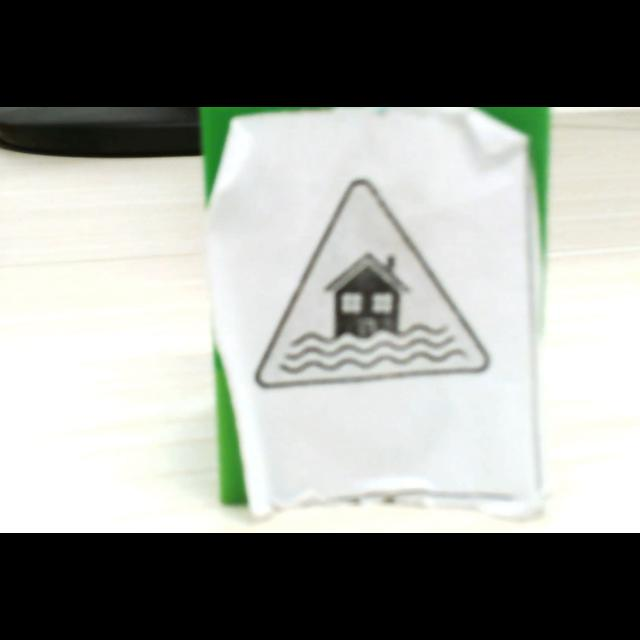Tsunami: (254, 179, 489, 389)
